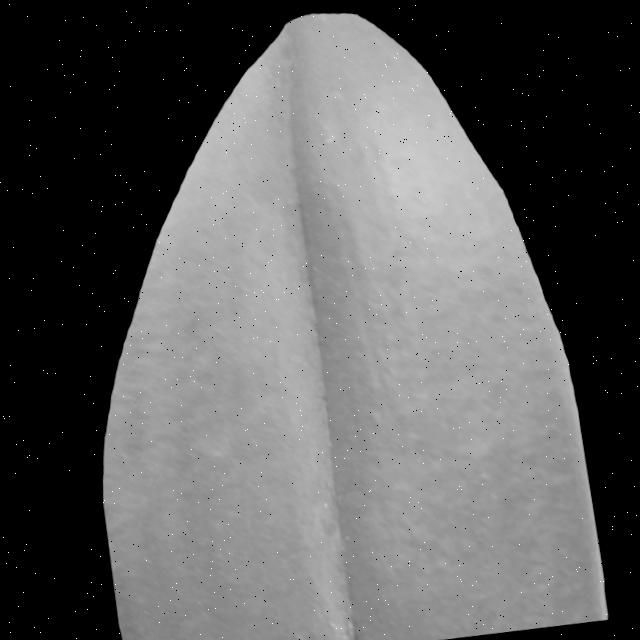mite: (186, 418, 236, 463), (318, 491, 336, 512), (322, 496, 333, 508)
spots: (34, 10, 614, 640)
